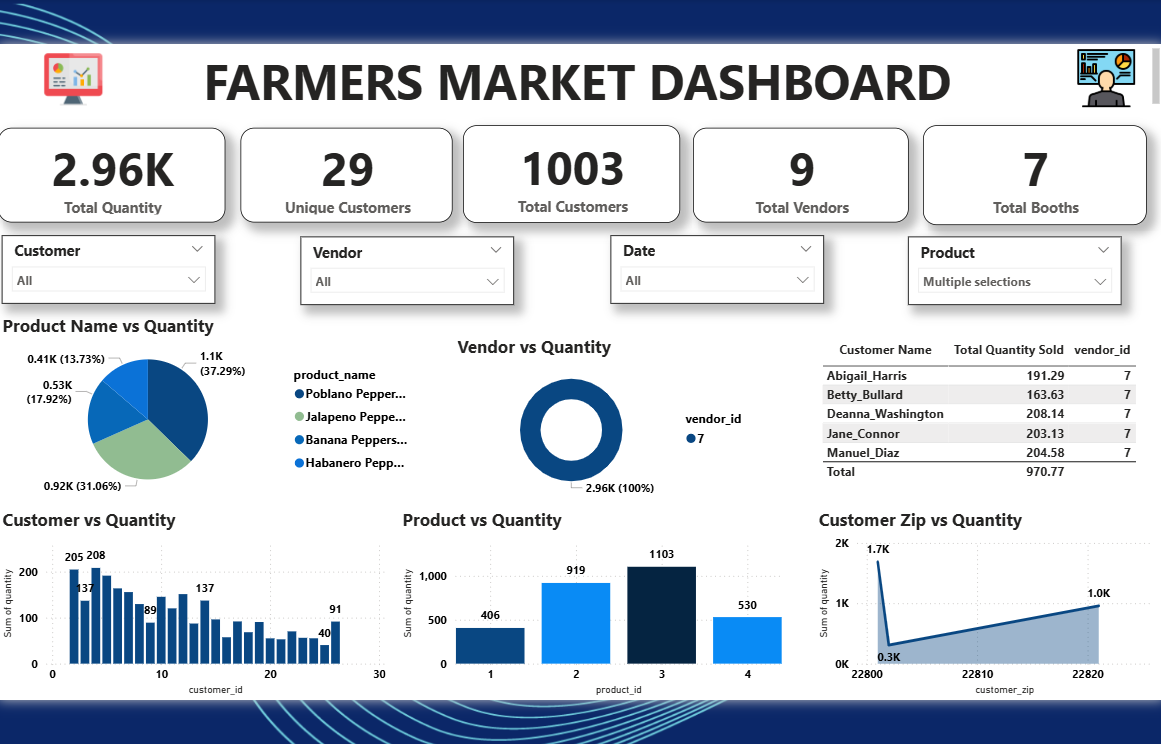

The dashboard page shown, as its layout file describes it:
{"tool":"powerbi","page":{"name":"Quantity Wise Analysis","canvas":[1280,720],"ordinal":0},"visuals":[{"type":"columnChart","title":"Customer vs Quantity","fields":{"Category":["customer_purchases.customer_id"],"Y":["customer_purchases.quantity"]},"box":[0,508.7,430.5,211.1],"z":0},{"type":"clusteredColumnChart","title":"Product vs Quantity","fields":{"Y":["customer_purchases.quantity"],"Category":["product.product_id"]},"box":[438.7,508.7,426.4,211.1],"z":1000},{"type":"pieChart","title":"Product Name vs Quantity","fields":{"Y":["customer_purchases.quantity"],"Category":["product.product_name"]},"box":[0,296.1,467.5,207],"z":2000},{"type":"donutChart","title":"Vendor vs Quantity","fields":{"Category":["customer_purchases.vendor_id"],"Y":["customer_purchases.quantity"]},"box":[499.1,319.5,344.1,183.7],"z":3000},{"type":"textbox","box":[0,0,1280.6,75.4],"z":4000},{"type":"image","box":[1153,0,127.5,75.4],"z":5000},{"type":"image","box":[43.9,0,78.1,78.1],"z":6000},{"type":"card","fields":{"Values":["customer_purchases.quantity"]},"box":[0,91.9,249.5,104.2],"z":7000},{"type":"card","fields":{"Values":["customer_purchases.customer_id"]},"box":[266,91.9,233.1,104.2],"z":8000},{"type":"card","fields":{"Values":["customer_purchases.customer_id"]},"box":[510,89.1,238.6,106.9],"z":9000},{"type":"card","fields":{"Values":["vendor.vendor_id"]},"box":[762.3,91.9,237.2,104.2],"z":10000},{"type":"card","fields":{"Values":["vendor_booth_assignments.booth_number"]},"box":[1015.9,89.1,245.4,109.7],"z":11000},{"type":"tableEx","fields":{"Values":["customer.Customer_FUll_Name","customer_purchases.quantity","customer_purchases.vendor_id"]},"box":[899.4,319.5,377,170],"z":12000},{"type":"areaChart","title":"Customer Zip vs Quantity","fields":{"Category":["customer.customer_zip"],"Y":["customer_purchases.quantity"]},"box":[896.7,508.7,383.9,211.1],"z":13000},{"type":"slicer","fields":{"Values":["customer.customer_id"]},"box":[4.1,209.8,234.4,75.4],"z":14000},{"type":"slicer","fields":{"Values":["customer_purchases.vendor_id"]},"box":[331.8,211.1,234.4,75.4],"z":15000},{"type":"slicer","fields":{"Values":["market_date_info.market_date"]},"box":[671.8,209.8,234.4,75.4],"z":16000},{"type":"slicer","fields":{"Values":["customer_purchases.product_id"]},"box":[999.5,211.1,234.4,75.4],"z":17000}]}

Visuals, with their boxes on the page's 1280x720 design canvas (x1, y1, x2, y2). These are canvas units, not pixel positions in the 1161x744 screenshot, which may show the page scaled, cropped or inside an application window:
"Customer vs Quantity" columnChart: bbox=[0, 509, 430, 720]
"Product vs Quantity" clusteredColumnChart: bbox=[439, 509, 865, 720]
"Product Name vs Quantity" pieChart: bbox=[0, 296, 468, 503]
"Vendor vs Quantity" donutChart: bbox=[499, 320, 843, 503]
textbox: bbox=[0, 0, 1281, 75]
image: bbox=[1153, 0, 1280, 75]
image: bbox=[44, 0, 122, 78]
card - customer_purchases.quantity: bbox=[0, 92, 250, 196]
card - customer_purchases.customer_id: bbox=[266, 92, 499, 196]
card - customer_purchases.customer_id: bbox=[510, 89, 749, 196]
card - vendor.vendor_id: bbox=[762, 92, 1000, 196]
card - vendor_booth_assignments.booth_number: bbox=[1016, 89, 1261, 199]
tableEx - customer.Customer_FUll_Name x customer_purchases.quantity: bbox=[899, 320, 1276, 490]
"Customer Zip vs Quantity" areaChart: bbox=[897, 509, 1281, 720]
slicer - customer.customer_id: bbox=[4, 210, 238, 285]
slicer - customer_purchases.vendor_id: bbox=[332, 211, 566, 286]
slicer - market_date_info.market_date: bbox=[672, 210, 906, 285]
slicer - customer_purchases.product_id: bbox=[1000, 211, 1234, 286]
